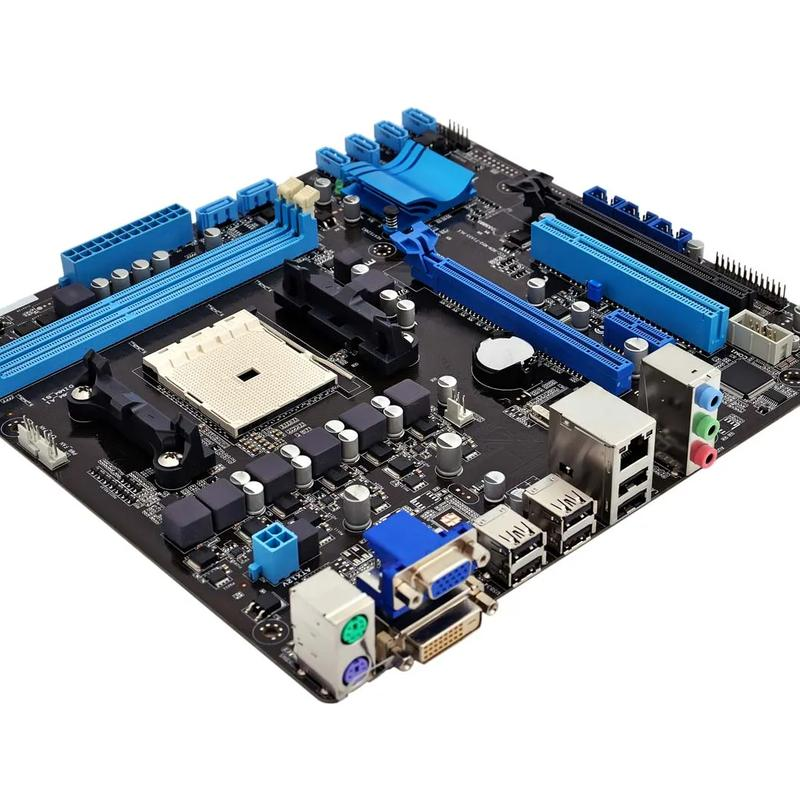AUDIO: (694, 375, 724, 410)
AUDIO_INPUT: (689, 407, 721, 438)
AUDIO_OUTPUT: (691, 436, 722, 470)
DVI: (390, 597, 508, 673)
ETHERNET: (608, 429, 651, 466)
PS: (340, 652, 376, 689)
PS2: (326, 601, 371, 648)
USB: (616, 491, 649, 520), (614, 467, 651, 486)
VGA: (399, 543, 474, 599)
